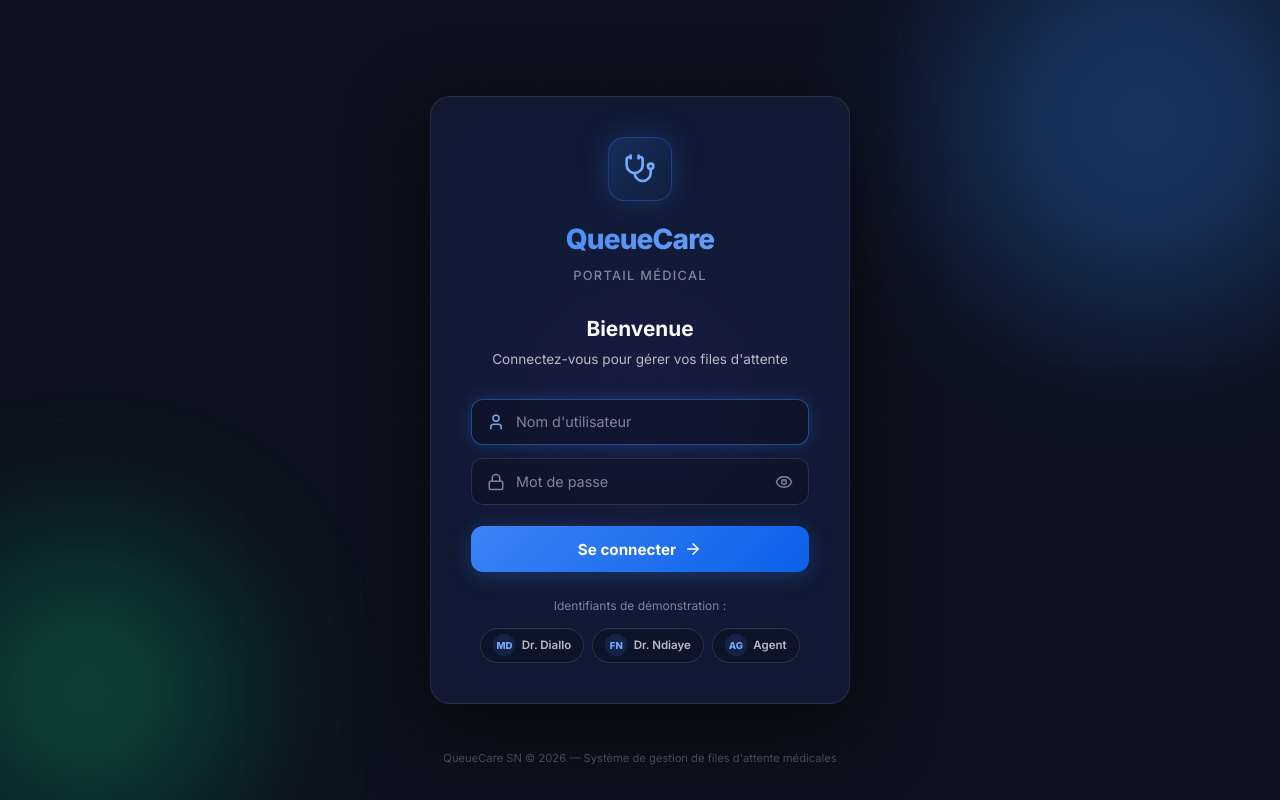
Test: LoginScreen › affiche une erreur si les champs sont vides
Click the button "Se connecter": (640,549) [471,526,809,572]
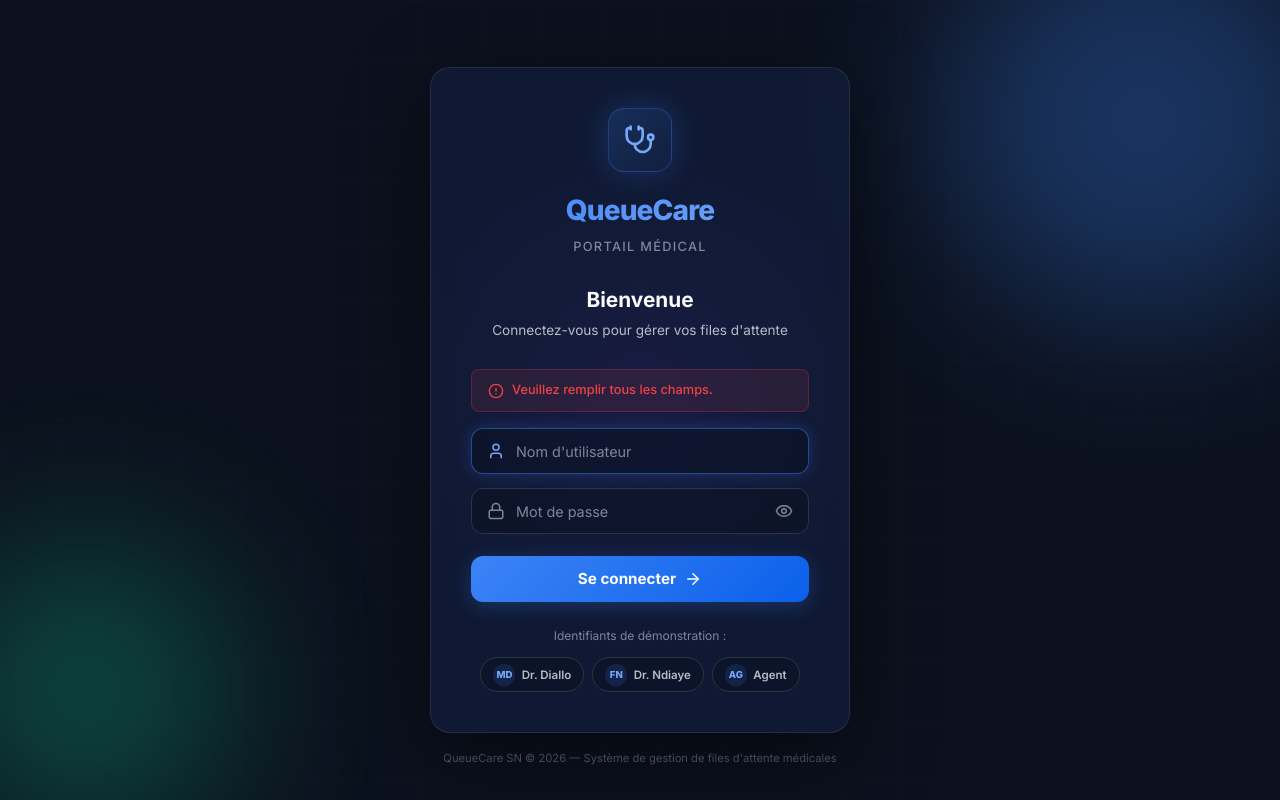
expect the text "Veuillez remplir tous les champs." is shown: met, box [512,380,713,401]
